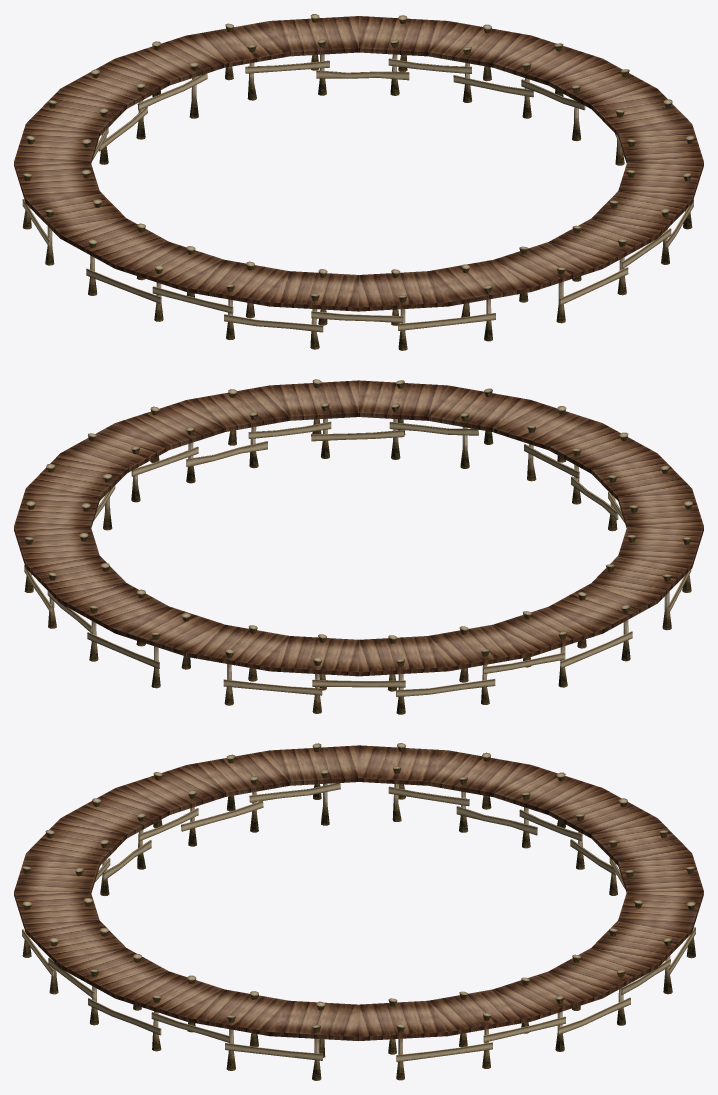
Rendered from platform2_circle_LOD0.fbx.
3 views of the same model, one above another, from view 1: azimuth 30°, elevation 25°; view 2: azimuth 150°, elevation 25°; view 3: azimuth 270°, elevation 25° (orthographic).
Parts seen in each view (by area): view 1: Default_Layer; view 2: Default_Layer; view 3: Default_Layer.
Boxes of the visible parts, <box> form: Default_Layer: <box>14,14,703,350</box>; Default_Layer: <box>14,379,703,714</box>; Default_Layer: <box>14,743,703,1080</box>.
Bounding box in the file's own units: 900 × 76.64 × 900.
